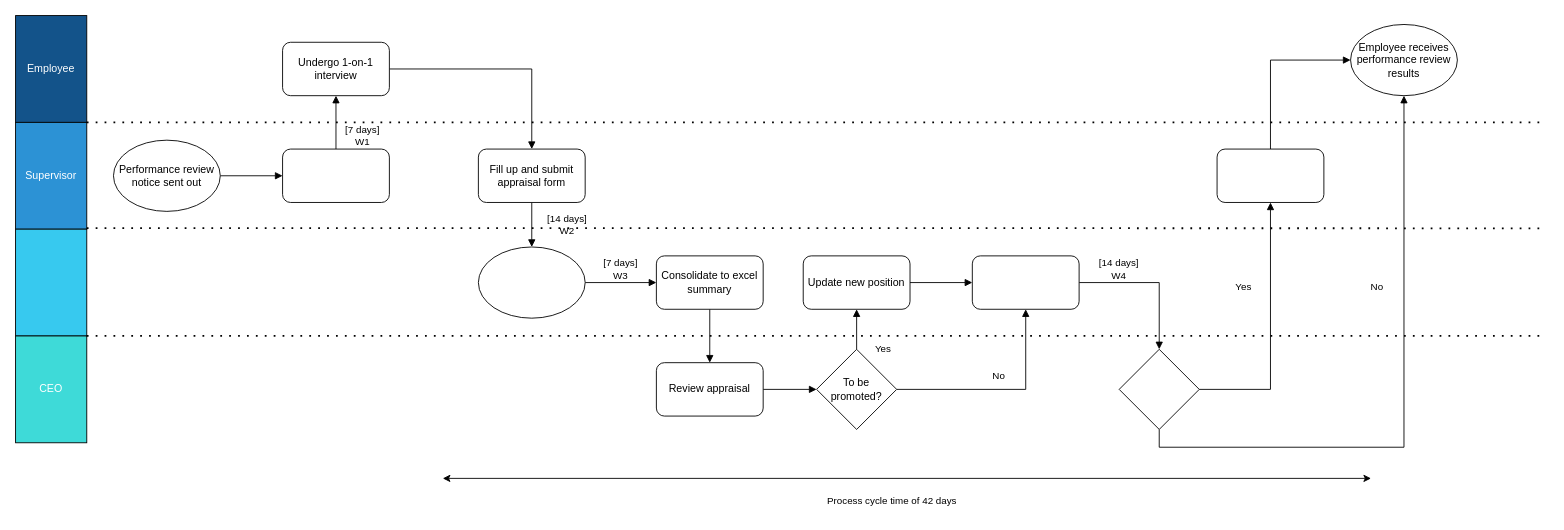
Image size: 1564x530. Some labels were removed from this diagram. The centre of each missing label's shape, as x and y in pixels:
"Fill out PIP with inputs from HR" belongs at [1270,175].
"HR" belongs at [51,282].
"Performance review period ends" belongs at [531,282].
"PIP needed?" belongs at [1158,388].
"Schedule 1-on-1 with employee" belongs at [335,175].
"Update new wages and issue bonuses" belongs at [1025,282].
